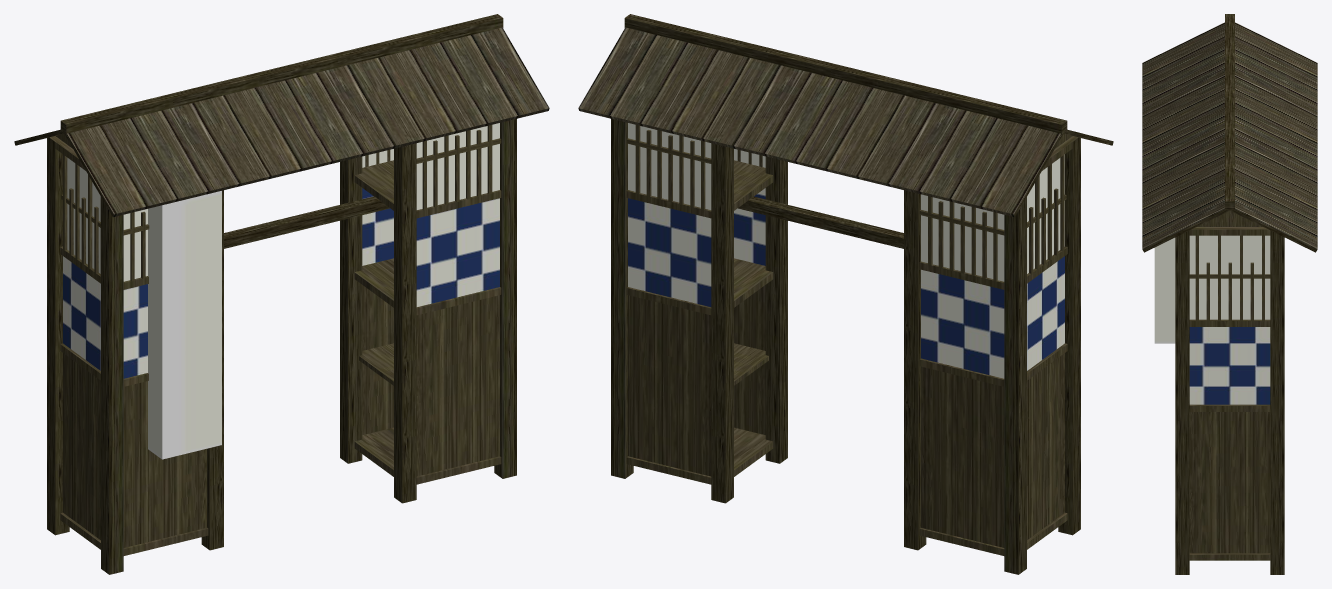
The model's file is pp_sobaya_yatai.glb.
3 views of the same model, side by side, from view 1: azimuth 30°, elevation 25°; view 2: azimuth 150°, elevation 25°; view 3: azimuth 270°, elevation 25° (orthographic). The views are drawn at different scales.
Parts seen in each view (by area): view 1: sobaya_yatai; view 2: sobaya_yatai; view 3: sobaya_yatai.
Boxes of the visible parts, left/top/right/bottom form: sobaya_yatai: left=14, top=14, right=549, bottom=574; sobaya_yatai: left=578, top=14, right=1113, bottom=574; sobaya_yatai: left=1142, top=14, right=1317, bottom=574.
Size of the model in its own units: 2.43 by 2.3 by 0.9614.
2 materials, 2 textured.
